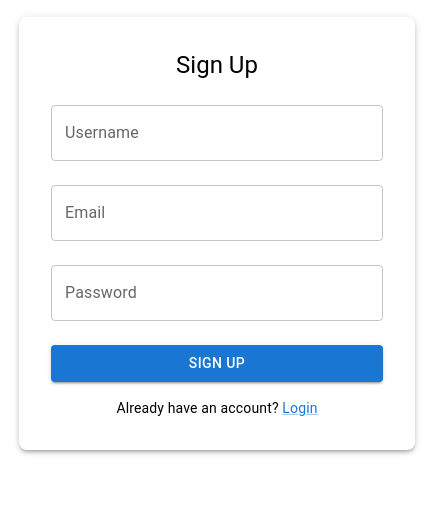
SignupForm › shows error when signup validation fails
Step 1. Click the button with test id "signup-submit-button" → click(217, 364), box [51,345,383,382]
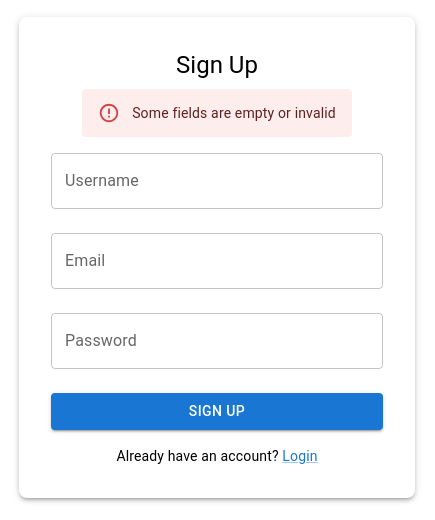
Expected: the message "Some fields are empty or invalid" is shown, [82,89,352,137]
Expected: the text "Some fields are empty or invalid" is shown, [132,105,336,121]
